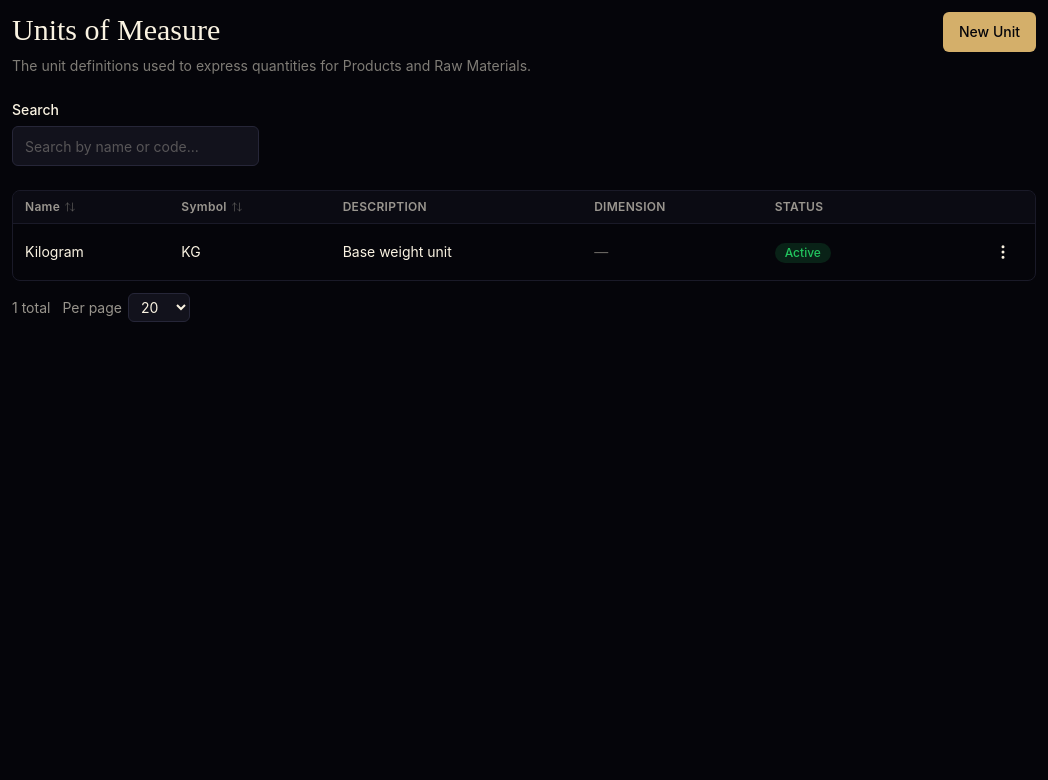
Test: UnitsOfMeasurePage › creating a unit shows a server-side name/code conflict as a form error
The width and height of the screenshot is (1048, 780).
Expected: the text "Kilogram" is shown, [13, 224, 169, 280]
Click the button "New Unit": [990, 32] box [943, 12, 1036, 52]
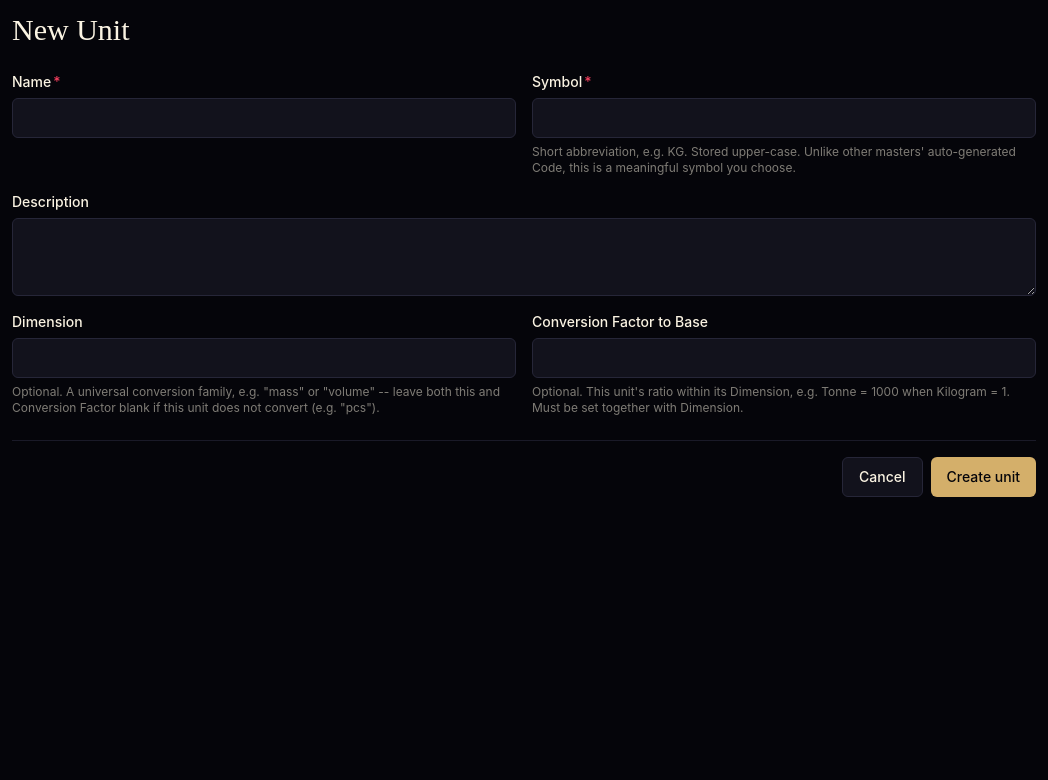
In the field labelled "Name": [264, 118] box [12, 98, 516, 138], type "Kilogram"
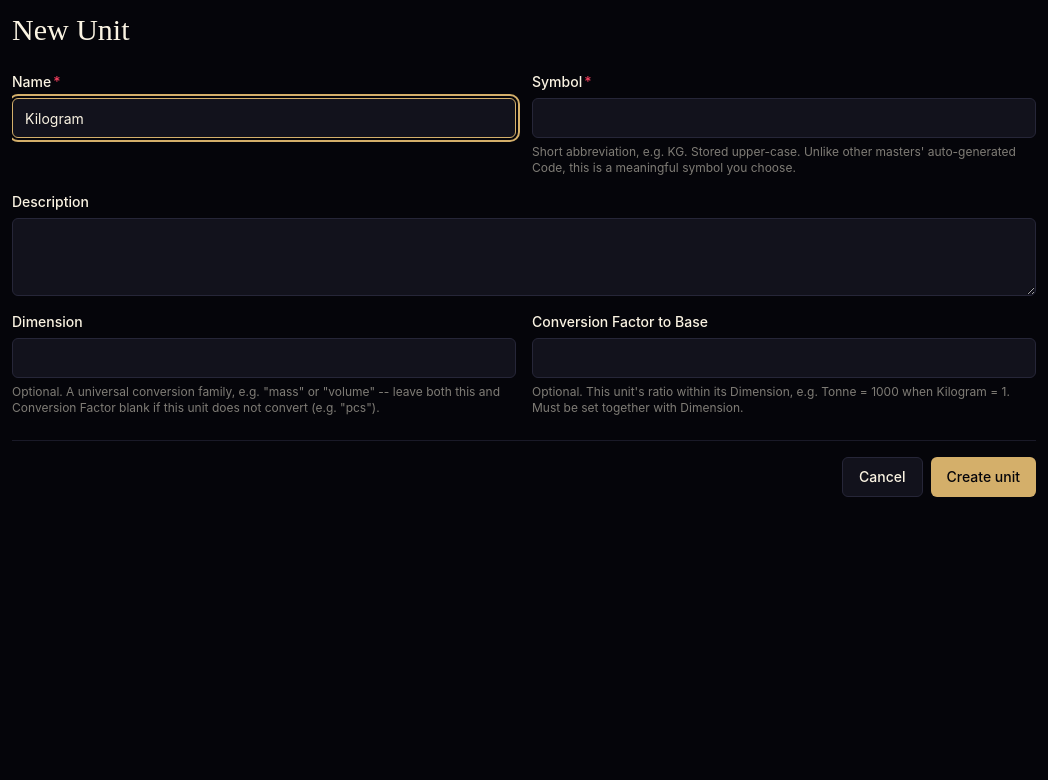
In the field labelled "Symbol": [784, 118] box [532, 98, 1036, 138], type "KG"
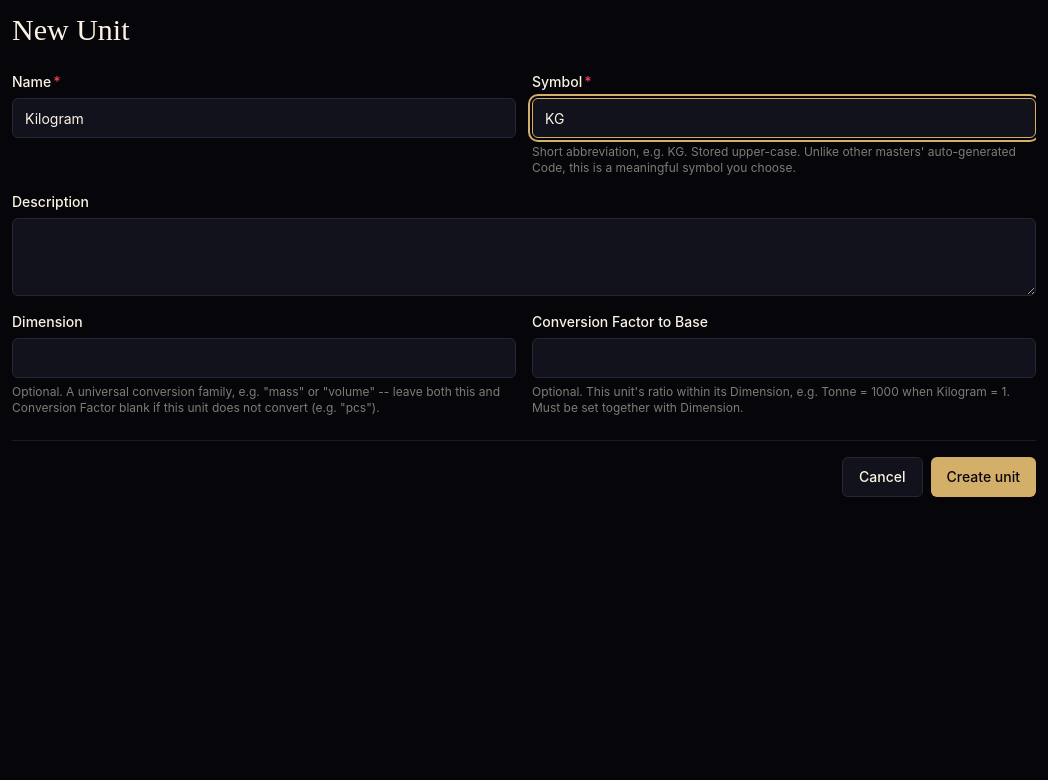
Click the button "Create unit": [983, 477] box [930, 457, 1036, 497]
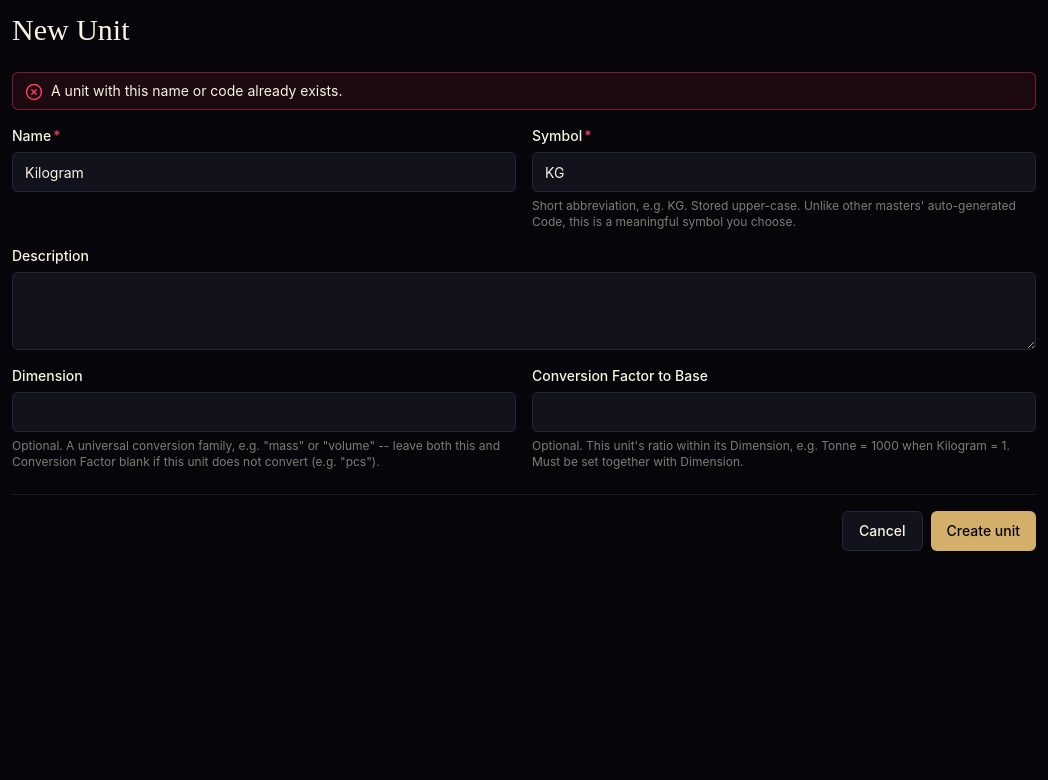
Expected: the text "A unit with this name or code already exists." is shown, [51, 81, 342, 101]
